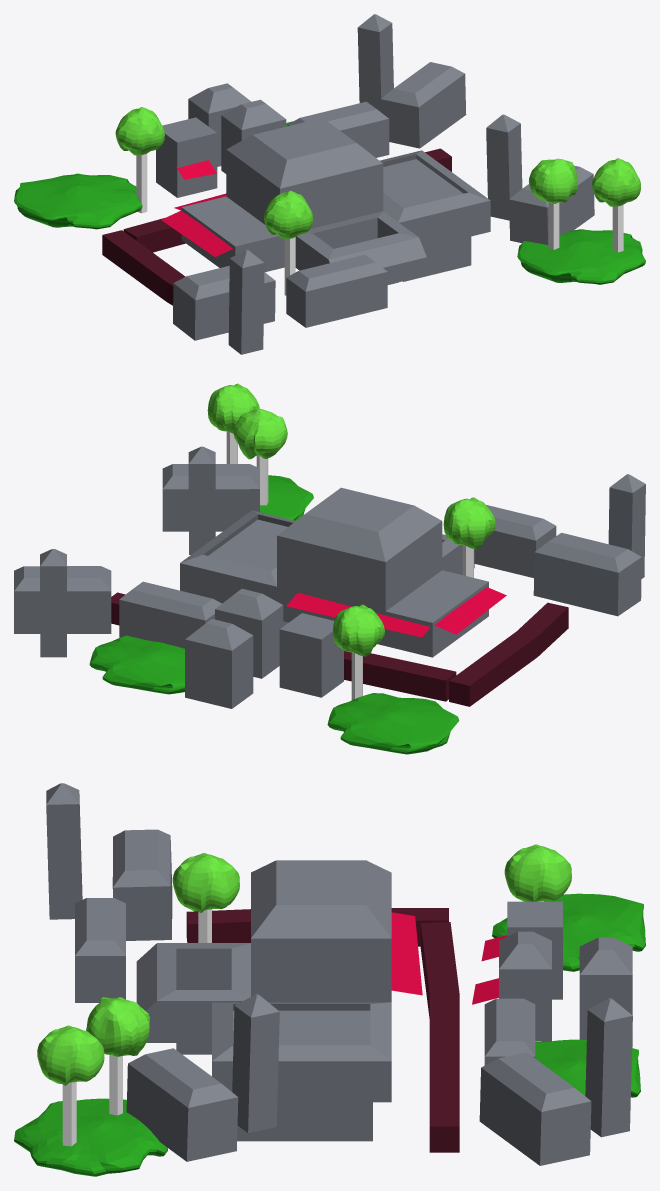
Rendered from forest_birch_dome_city.glb.
3 views of the same model, one above another, from view 1: azimuth 30°, elevation 25°; view 2: azimuth 150°, elevation 25°; view 3: azimuth 270°, elevation 25° (orthographic). The views are drawn at different scales.
Visible parts, largest first — view 1: Cube.020, Cube.022, houses2.001, houses3.001, houses.001, bush.004, Cube.024, bush.005, Cube.023, path, Cube.017, Cube.018 (+12 smaller); view 2: Cube.020, houses3.001, houses2.001, houses.001, Cube.022, bush.004, Cube.019, path, Cube.017, Cube.023, bush.006, Cube.024 (+10 smaller); view 3: Cube.020, Cube.022, houses2.001, houses.001, houses3.001, bush.005, path.001, Cube.024, bush.004, Cube.018, Cube.019, LeafLarge.010 (+10 smaller).
Part boxes in pixels (x1,y1,x2,y2): Cube.020: [181, 118, 426, 284]; Cube.022: [380, 150, 490, 281]; houses2.001: [357, 14, 466, 148]; houses3.001: [173, 249, 275, 354]; houses.001: [486, 114, 594, 244]; bush.004: [14, 173, 142, 229]; Cube.024: [286, 254, 387, 327]; bush.005: [517, 229, 645, 284]; Cube.023: [156, 117, 217, 197]; path: [102, 230, 185, 305]; Cube.017: [287, 101, 389, 157]; Cube.018: [221, 99, 286, 173]; Cube.020: [277, 487, 488, 657]; houses3.001: [533, 474, 645, 616]; houses2.001: [14, 549, 111, 657]; houses.001: [162, 446, 259, 554]; Cube.022: [180, 510, 295, 626]; bush.004: [327, 693, 459, 754]; Cube.019: [185, 619, 253, 708]; path: [449, 602, 568, 706]; Cube.017: [119, 581, 221, 648]; Cube.023: [279, 613, 343, 697]; bush.006: [89, 635, 184, 694]; Cube.024: [474, 505, 556, 577]; Cube.020: [136, 860, 391, 1054]; Cube.022: [212, 1002, 391, 1141]; houses2.001: [479, 998, 632, 1165]; houses.001: [126, 994, 279, 1161]; houses3.001: [46, 783, 172, 940]; bush.005: [14, 1098, 167, 1176]; path.001: [420, 922, 459, 1152]; Cube.024: [75, 898, 125, 1002]; bush.004: [492, 893, 645, 971]; Cube.018: [499, 931, 551, 1041]; Cube.019: [579, 937, 632, 1047]; LeafLarge.010: [172, 853, 239, 912].
Size of what is drawn, in the model's own units: 9.27 by 2.7 by 8.86.
